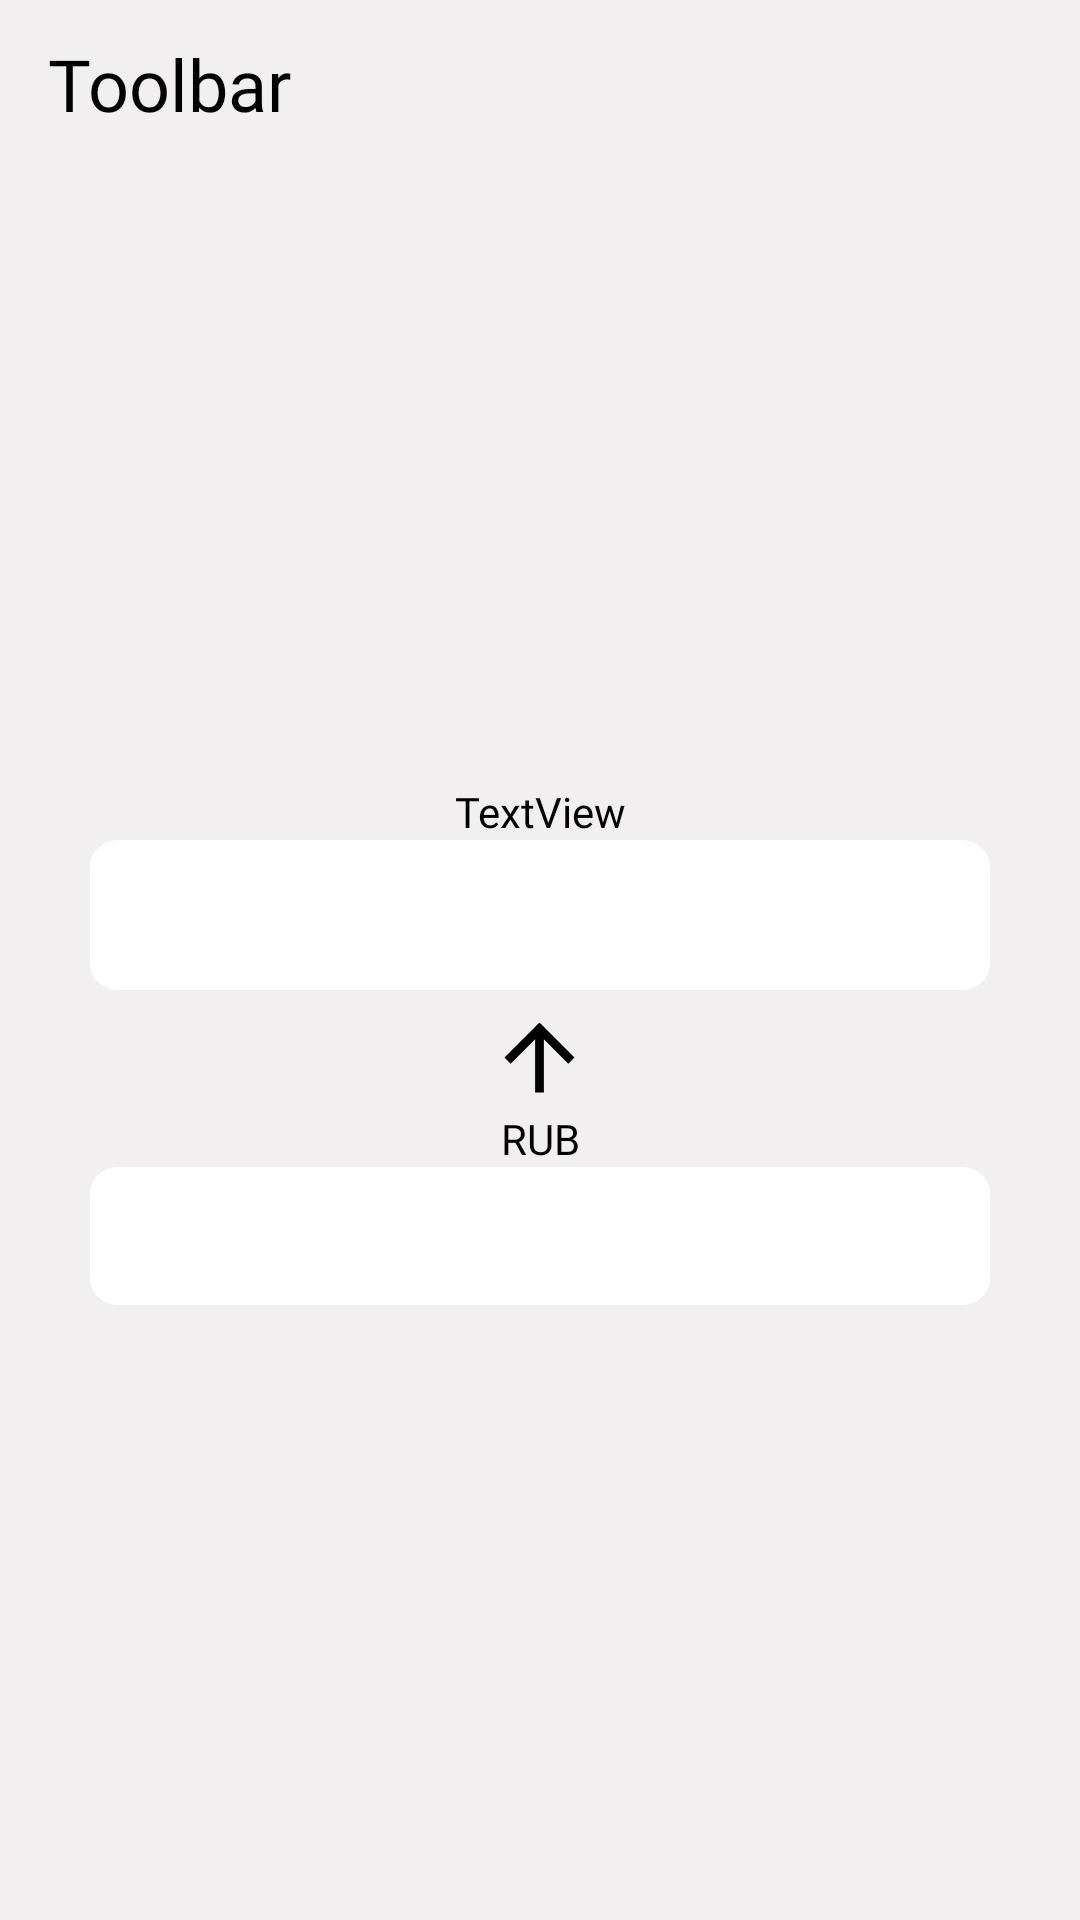

Point at icon controls on the screen. Image size 1080px x 1920px, points as (x=x, y=y).
arrow up: (x=539, y=1057)
